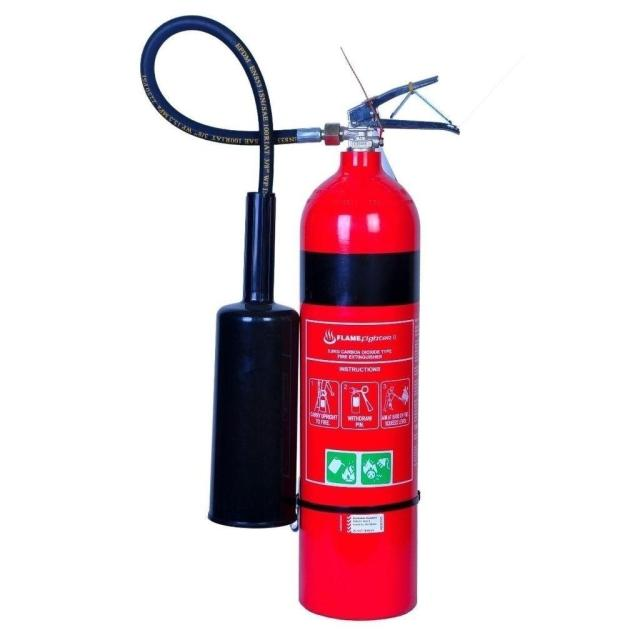fire_extinguisher: (133, 11, 468, 627)
